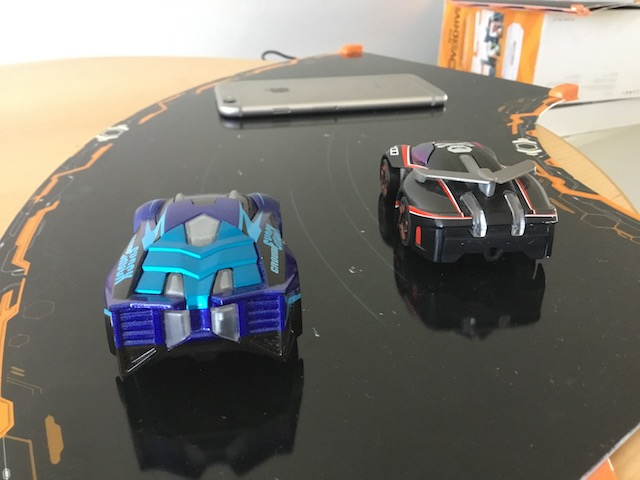car-blue: (97, 186, 305, 393)
car-red: (375, 135, 559, 266)
phone: (211, 70, 451, 122)
